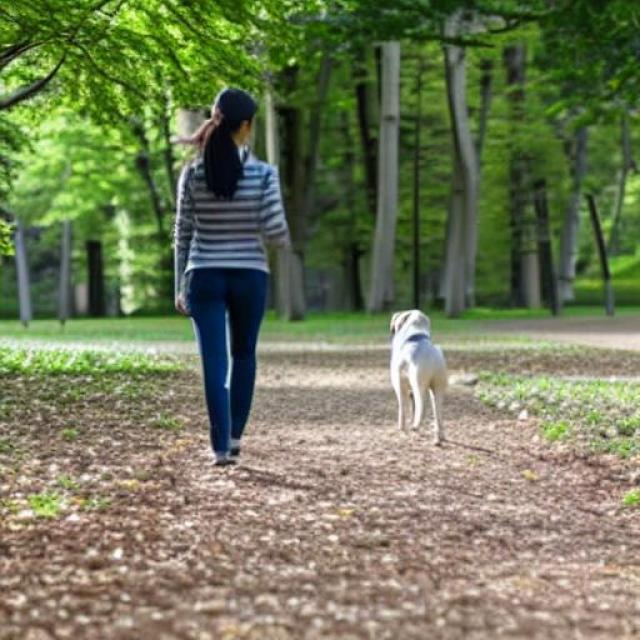Unleashed_Dog: (181, 266, 450, 448)
